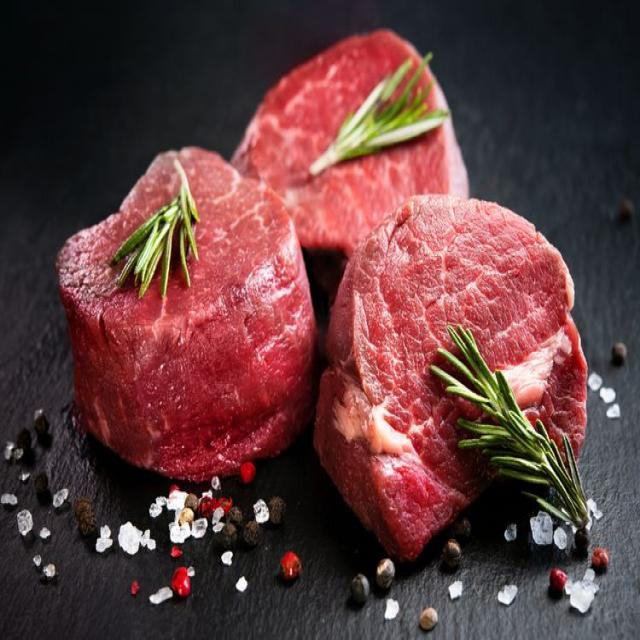Beef: (293, 206, 614, 554), (47, 138, 324, 513), (225, 17, 499, 260)
